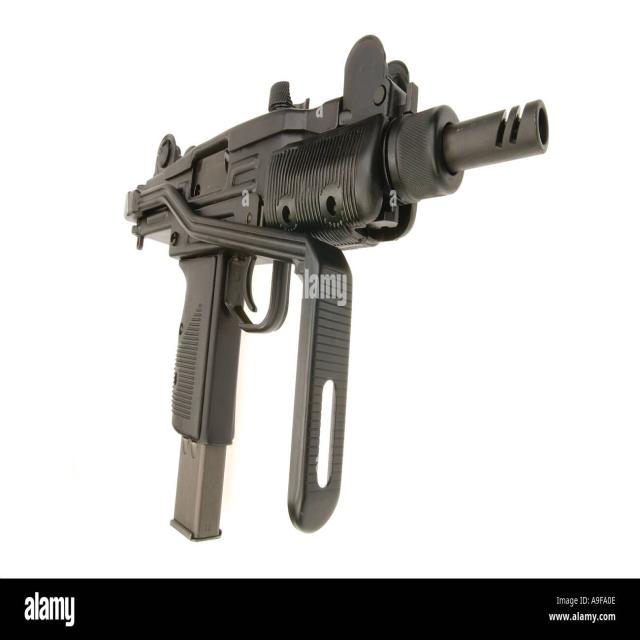SMG: (125, 36, 551, 544)
